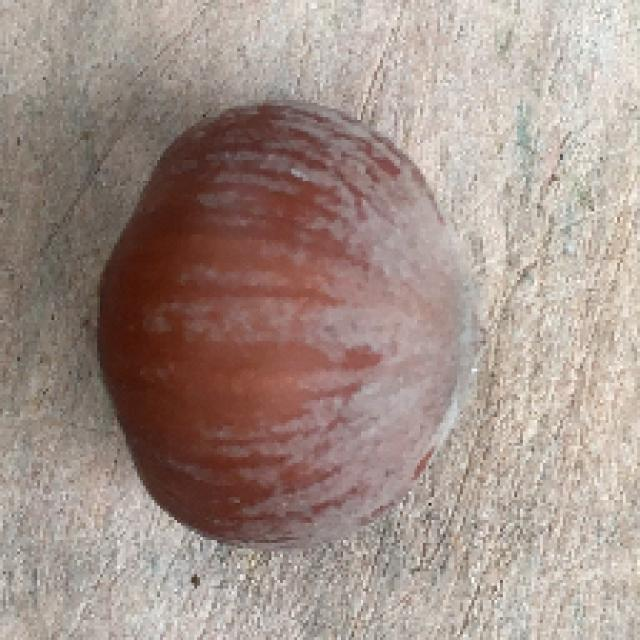qualityHazelnut: (94, 96, 484, 549)
